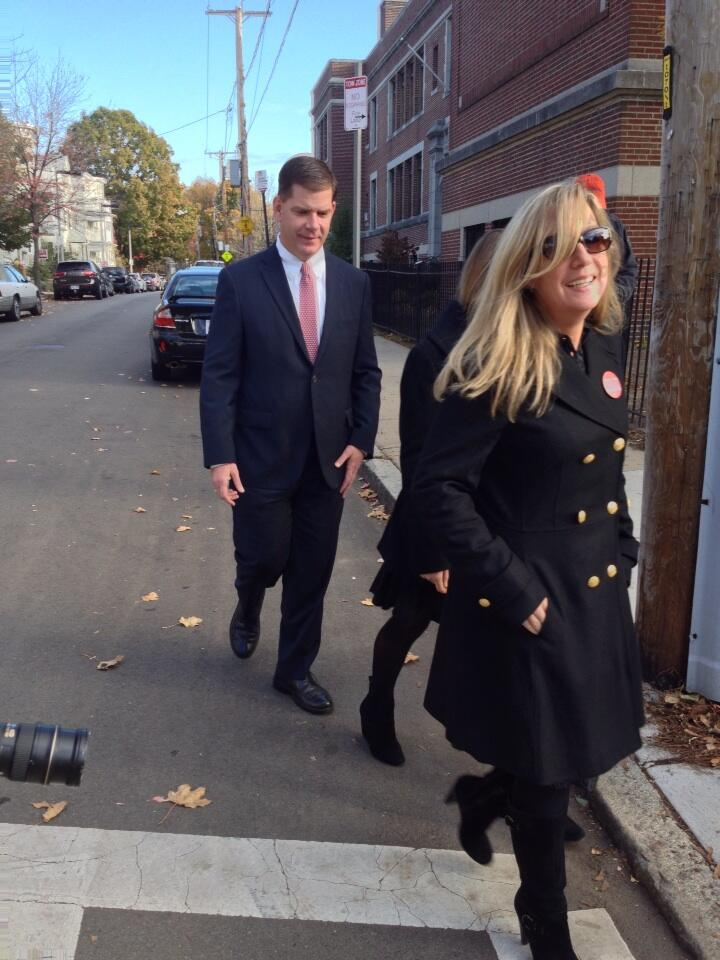Person: (449, 176, 642, 960), (217, 169, 374, 687)
